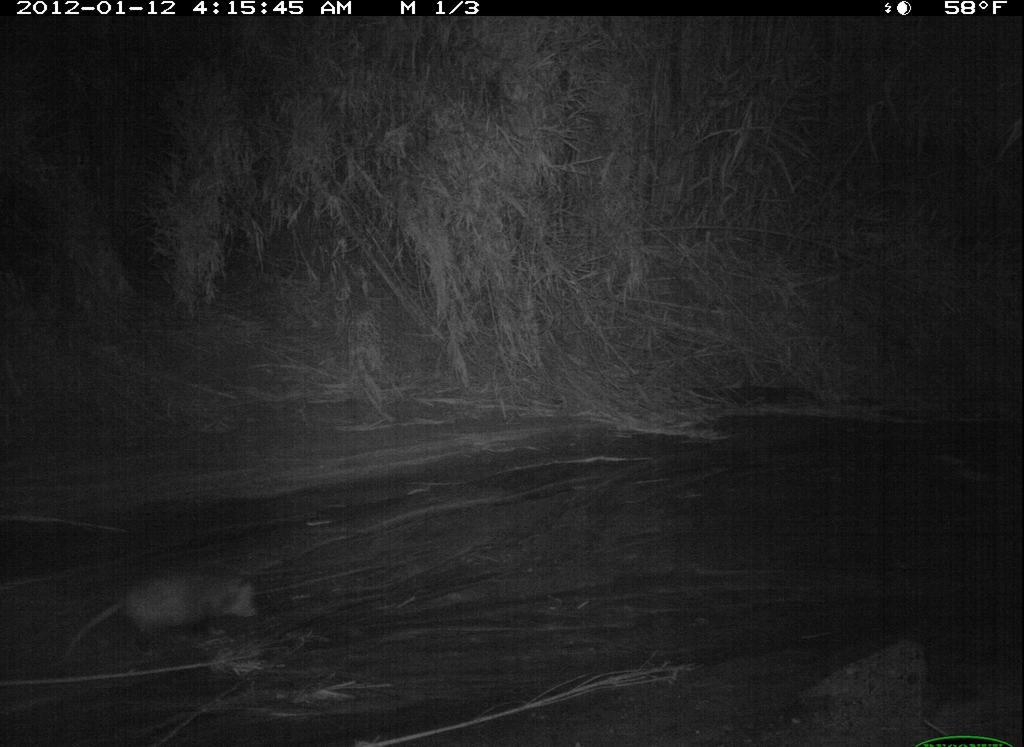opossum: (75, 561, 269, 669)
